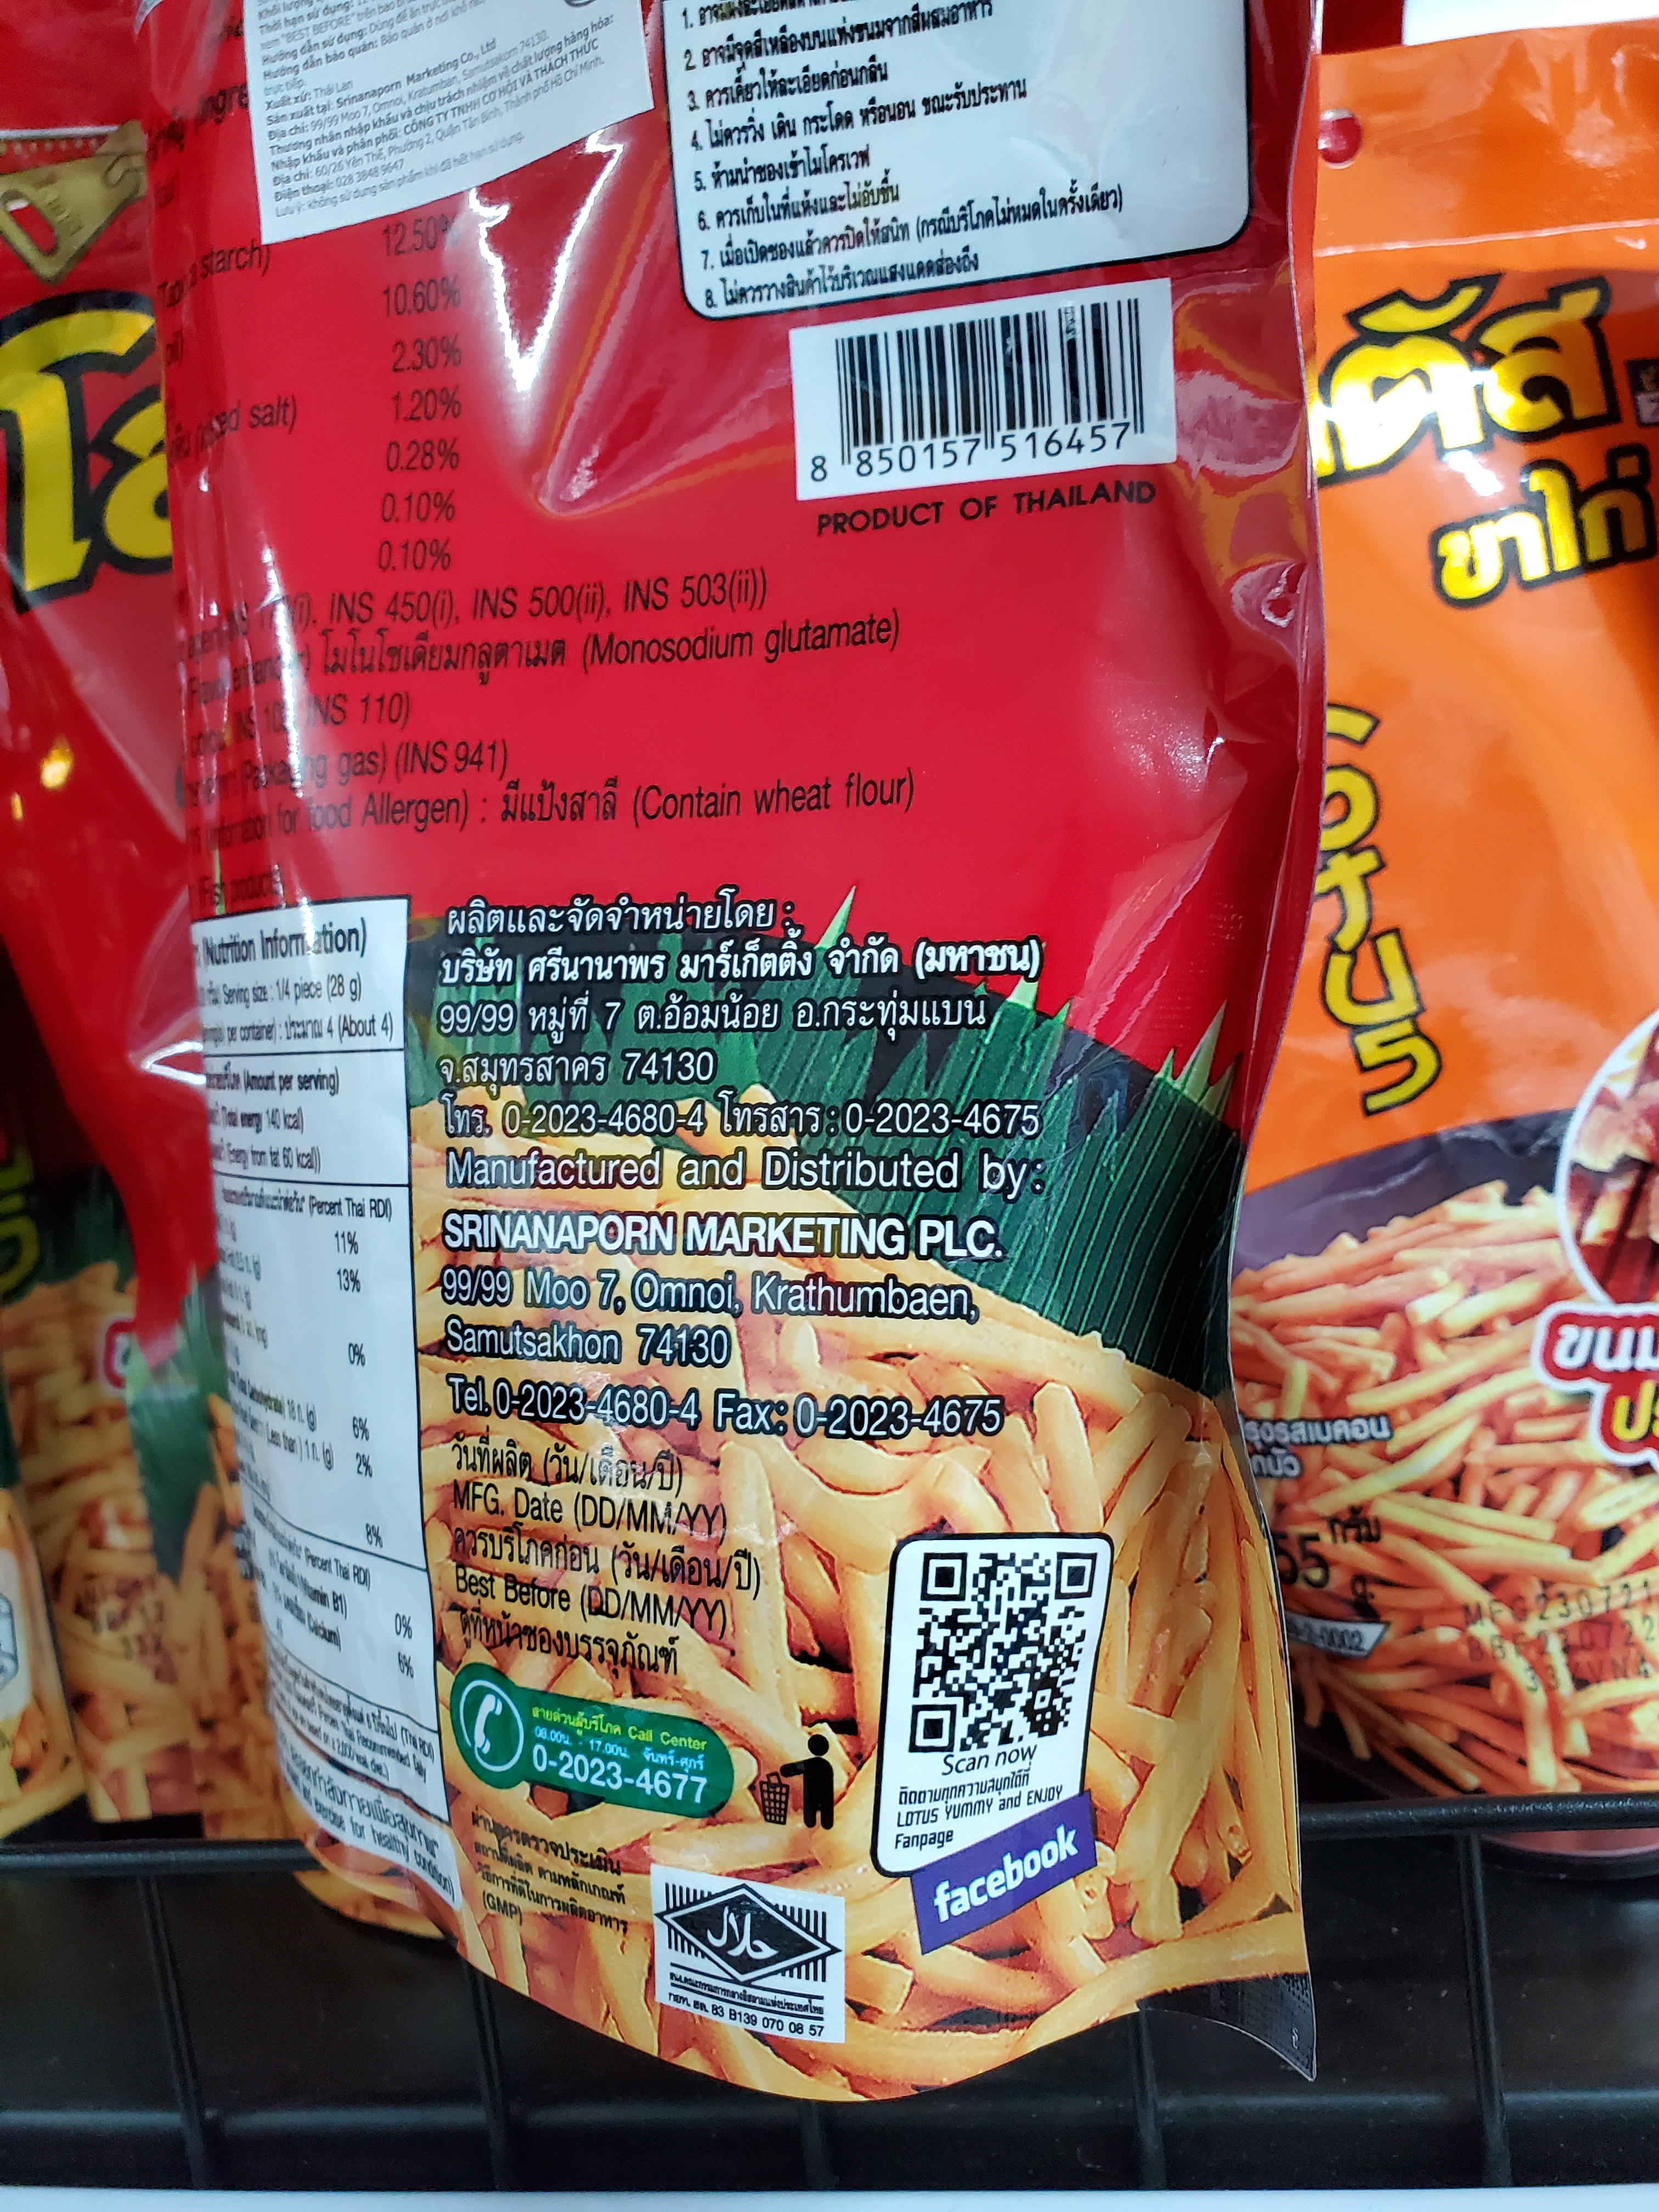barcode: (755, 268, 1176, 477)
qr code: (897, 1536, 1110, 1771)
